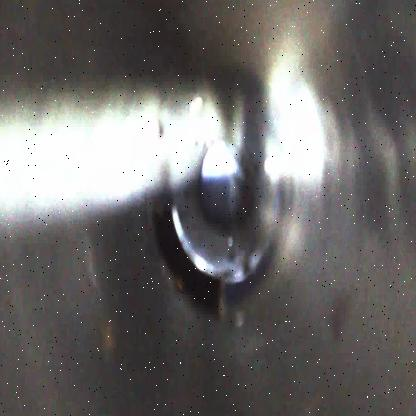Crack2: (148, 200, 227, 320)
